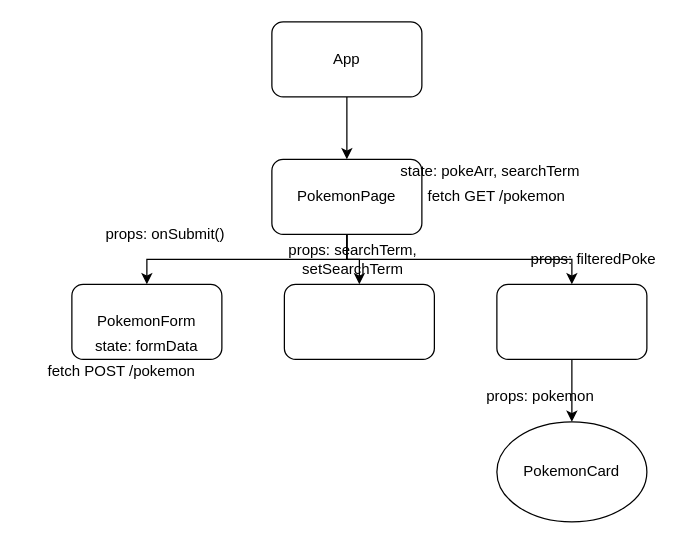
Some shapes in this 680 by 544 pixel diagram are drawn without their labels. Here are the shapes that lost their labels. From the top down, the centre of each, then its label:
At point (358, 321): "PokemonSearch".
At point (571, 321): "PokemonCollection".
